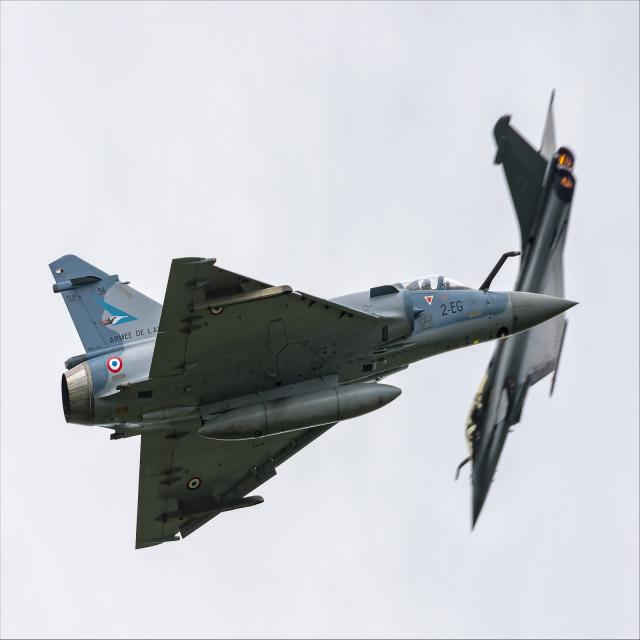MIL_Plane: (48, 251, 580, 550), (455, 87, 576, 528)
